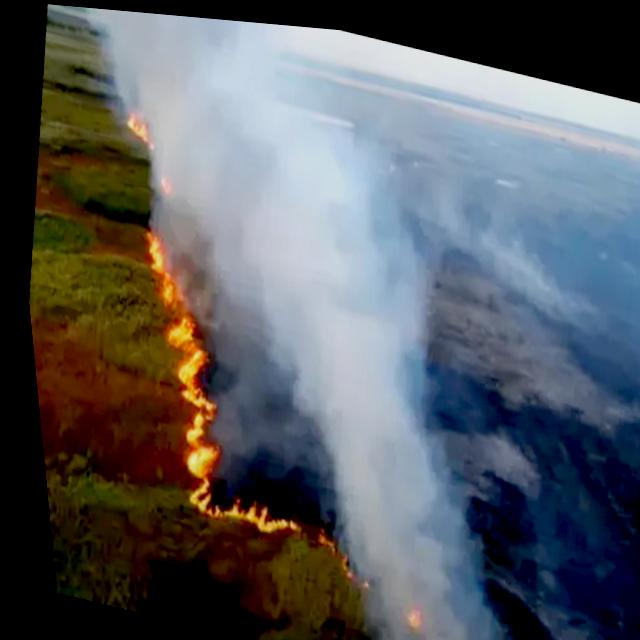Smoke: (0, 0, 587, 640)
